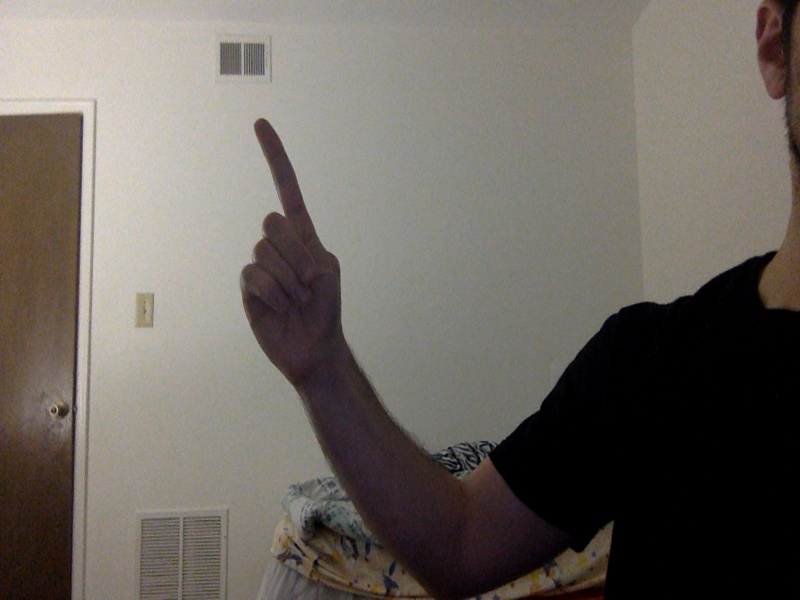1-hand: (236, 117, 345, 382)
